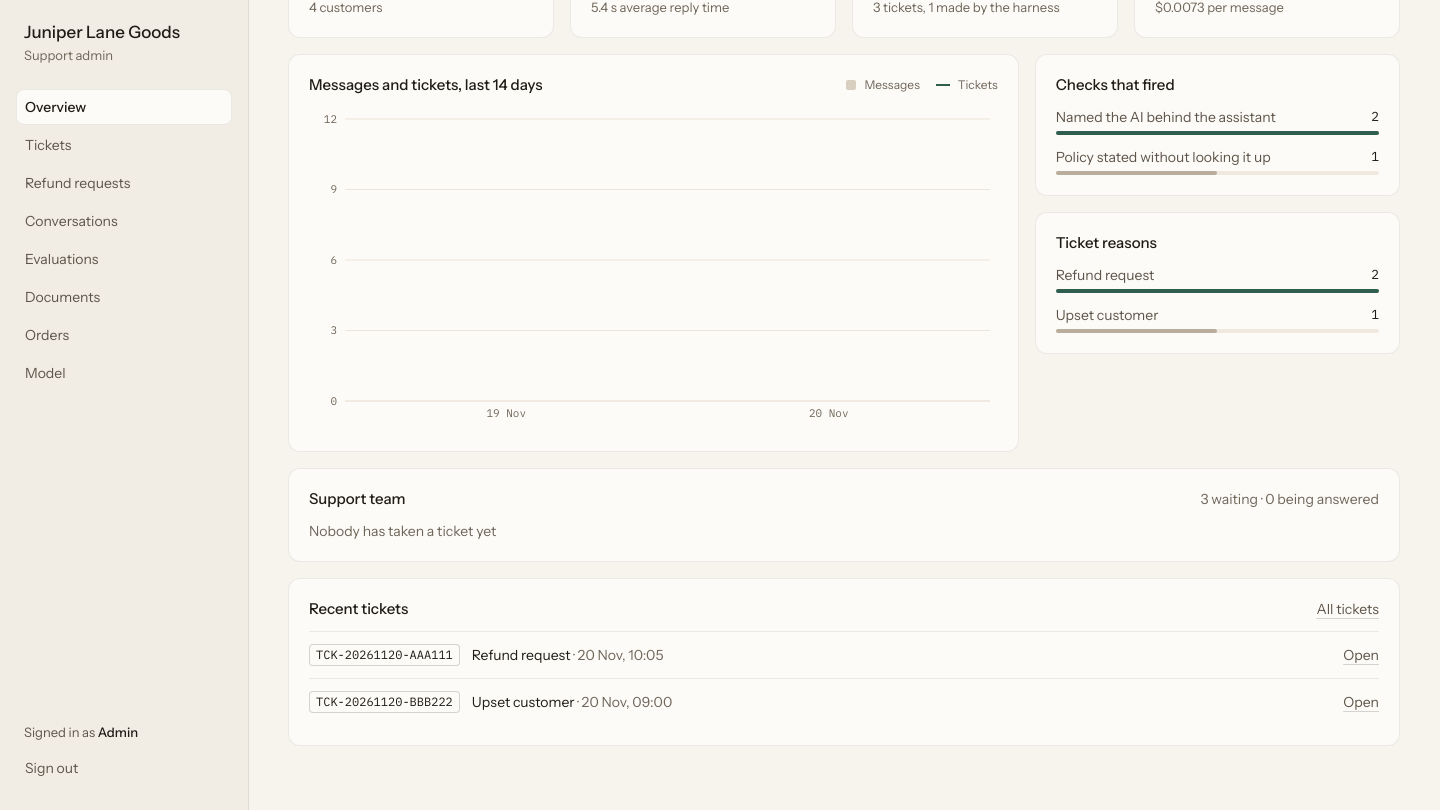
tickets › opens a ticket from the overview, where it can be answered
(page scrolled)
Click the button "Open" in the row of "TCK-20261120-AAA111": x=1361, y=655 top-left (1343, 645), bottom-right (1379, 665)
(page scrolled)
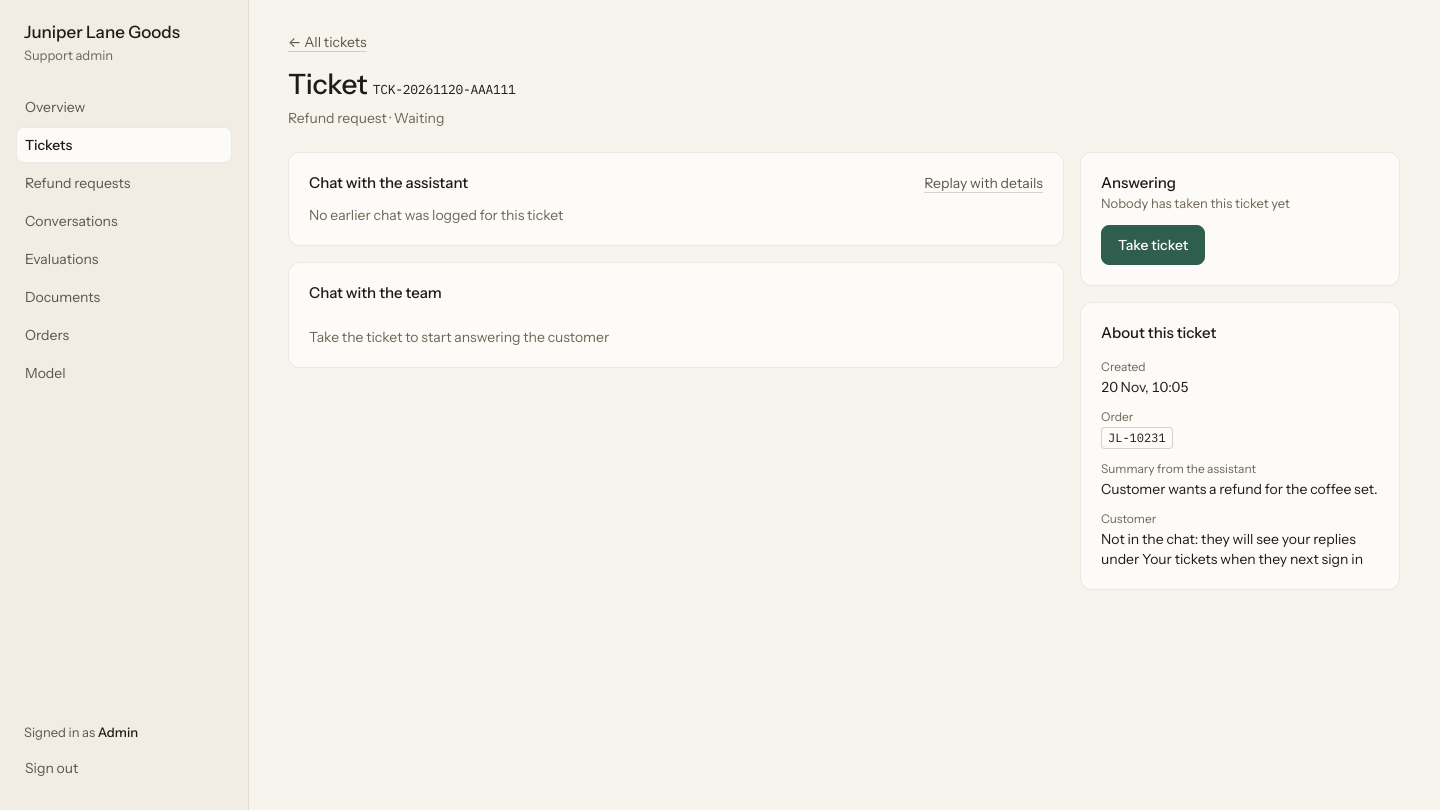
Expected: the button "Take ticket" is shown, top-left (1101, 225), bottom-right (1205, 265)
